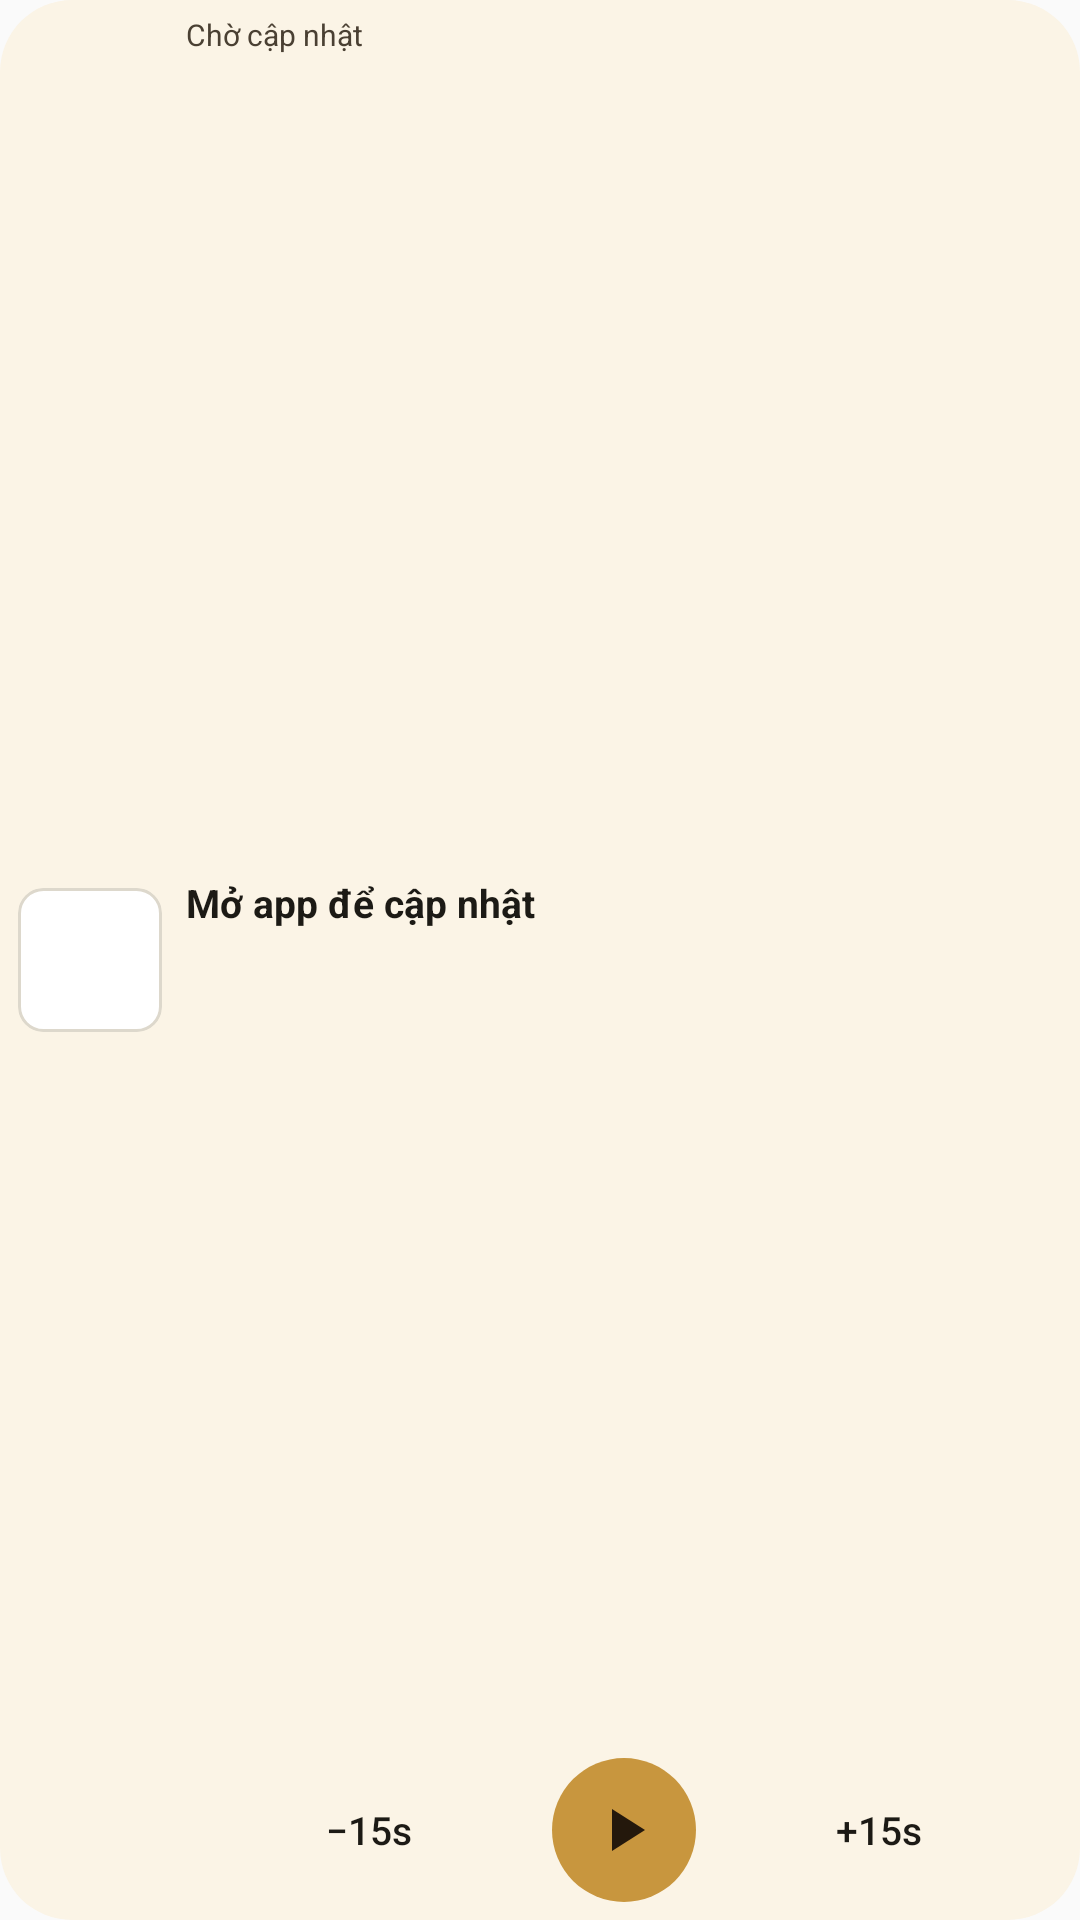

Screen size 1080px x 1920px. Icon name, then its center in pixels as [x,y]:
Phát tiếp: [624,1830]
